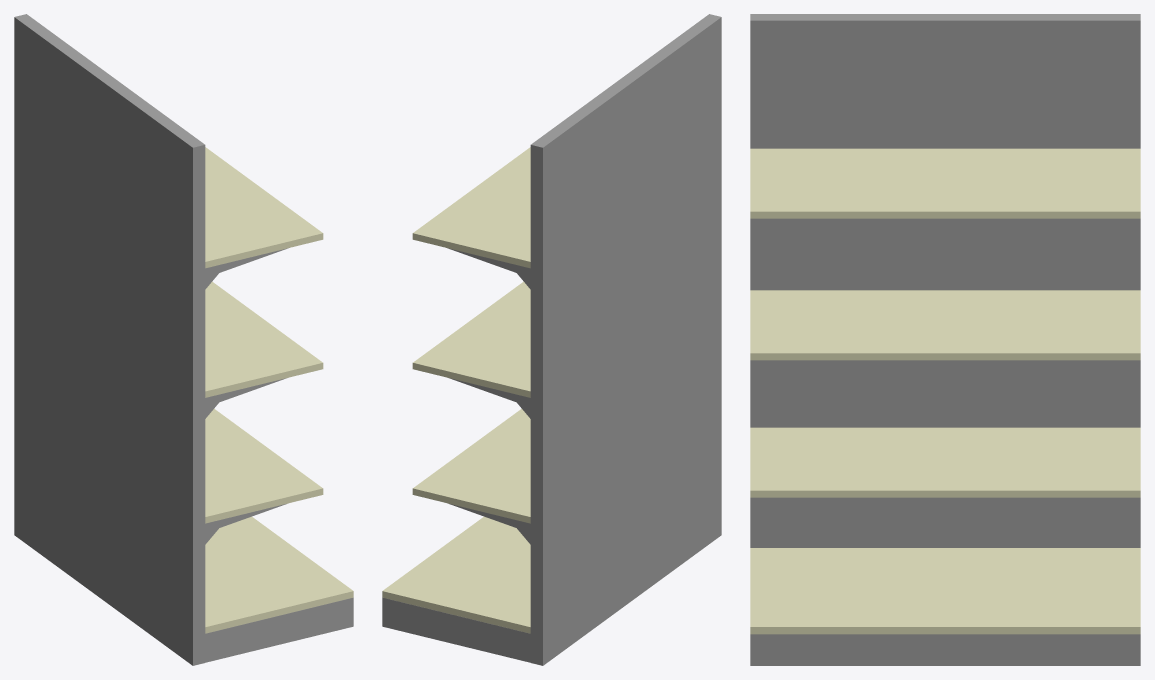
Rendered from shelf1-25M.fbx.
3 renders of one model, left to right at view 1: azimuth 30°, elevation 25°; view 2: azimuth 150°, elevation 25°; view 3: azimuth 270°, elevation 25°, orthographic. The views are drawn at different scales.
Parts seen in each view (by area): view 1: back, floor1, floor4, floor3, floor2, foundation1, beam4.1, beam2.1, beam3.1; view 2: back, floor1, floor4, floor3, floor2, foundation1, beam4.2, beam2.2, beam3.2; view 3: back, floor1, floor2, floor3, floor4, foundation1.
Part boxes in pixels (<box>): back: <box>14,14,205,665</box>; floor1: <box>205,516,353,633</box>; floor4: <box>205,147,323,268</box>; floor3: <box>205,281,323,397</box>; floor2: <box>205,408,323,523</box>; foundation1: <box>205,597,353,662</box>; beam4.1: <box>205,248,288,289</box>; beam2.1: <box>205,504,286,544</box>; beam3.1: <box>205,378,286,418</box>; back: <box>530,14,721,665</box>; floor1: <box>382,516,530,633</box>; floor4: <box>412,147,530,268</box>; floor3: <box>412,281,530,397</box>; floor2: <box>412,408,530,523</box>; foundation1: <box>382,597,530,662</box>; beam4.2: <box>447,248,530,289</box>; beam2.2: <box>449,504,530,544</box>; beam3.2: <box>449,378,530,418</box>; back: <box>750,14,1140,547</box>; floor1: <box>750,548,1140,634</box>; floor2: <box>750,427,1140,497</box>; floor3: <box>750,290,1140,360</box>; floor4: <box>750,148,1140,218</box>; foundation1: <box>750,634,1140,665</box>.
Bounding box in the file's own units: 130 × 400 × 250.
